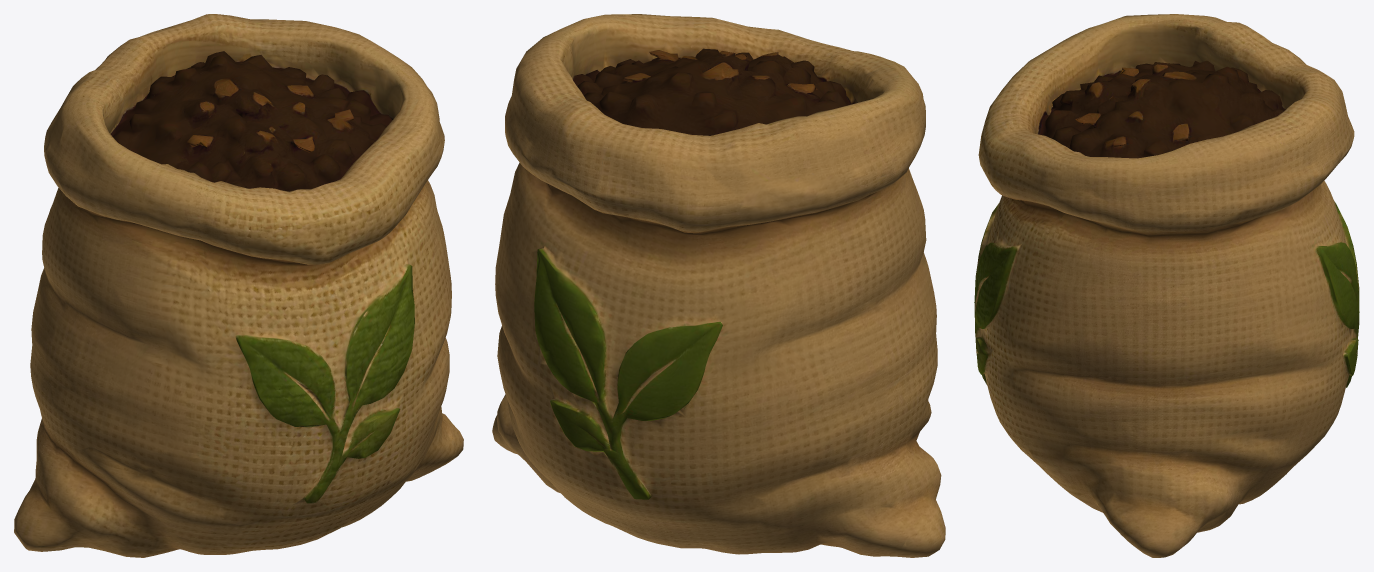
File: compost.glb
3 views of the same model, side by side, from view 1: azimuth 30°, elevation 25°; view 2: azimuth 150°, elevation 25°; view 3: azimuth 270°, elevation 25° (orthographic). The views are drawn at different scales.
Parts seen in each view (by area): view 1: tripo_node_47199d23-86ba-4c4d-a422-a9c699c6988b; view 2: tripo_node_47199d23-86ba-4c4d-a422-a9c699c6988b; view 3: tripo_node_47199d23-86ba-4c4d-a422-a9c699c6988b.
Part boxes in pixels (box(x1,y1,x2,y2)): tripo_node_47199d23-86ba-4c4d-a422-a9c699c6988b: box(14, 14, 463, 557); tripo_node_47199d23-86ba-4c4d-a422-a9c699c6988b: box(492, 14, 945, 557); tripo_node_47199d23-86ba-4c4d-a422-a9c699c6988b: box(974, 14, 1359, 557).
Bounding box in the file's own units: 1 × 0.9651 × 0.8258.
Materials: 1 (1 with a texture image).
